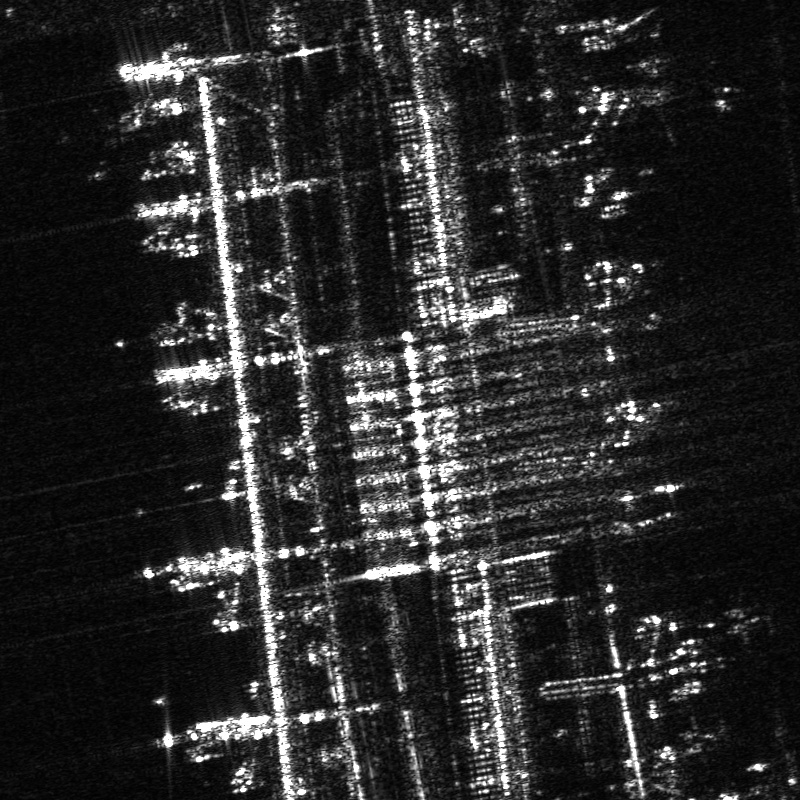Boeing737: (743, 777, 799, 799)
